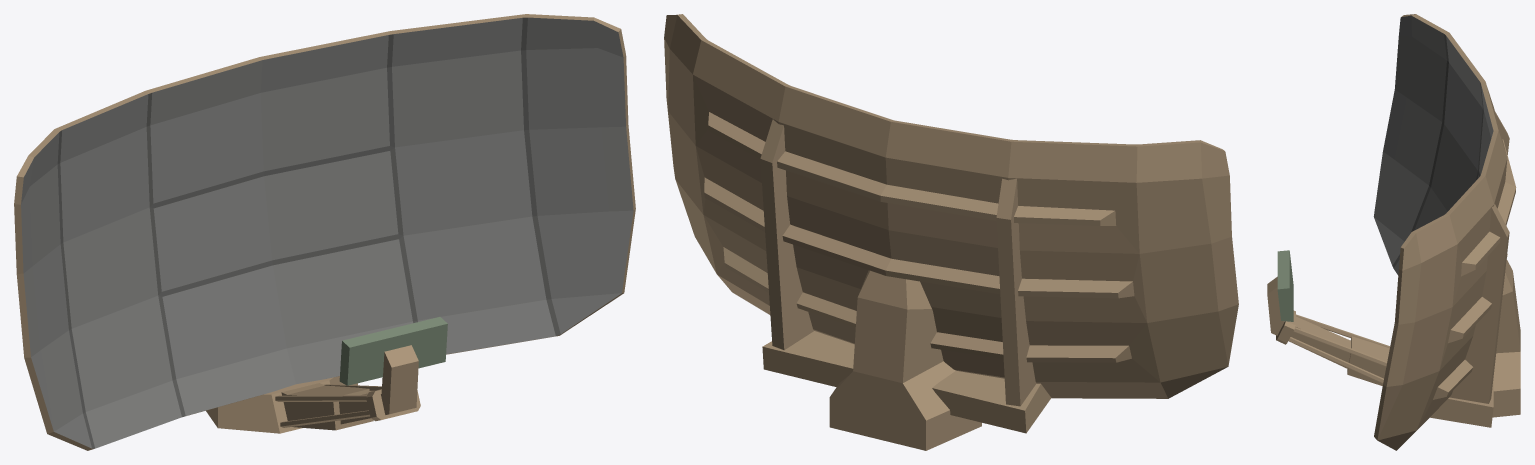
The model's file is SM_Prop_Satelite_Dish_02_Top.glb.
3 views of the same model, side by side, from view 1: azimuth 30°, elevation 25°; view 2: azimuth 150°, elevation 25°; view 3: azimuth 270°, elevation 25° (orthographic). The views are drawn at different scales.
Parts seen in each view (by area): view 1: SM_Prop_Satelite_Dish_02_Top; view 2: SM_Prop_Satelite_Dish_02_Top; view 3: SM_Prop_Satelite_Dish_02_Top.
Boxes of the visible parts, x1,y1,x2,y2 form: SM_Prop_Satelite_Dish_02_Top: (14, 14, 635, 450); SM_Prop_Satelite_Dish_02_Top: (664, 14, 1238, 450); SM_Prop_Satelite_Dish_02_Top: (1267, 14, 1520, 450).
Bounding box in the file's own units: 7.2 × 3.84 × 3.25.
Materials: 1 (1 with a texture image).
